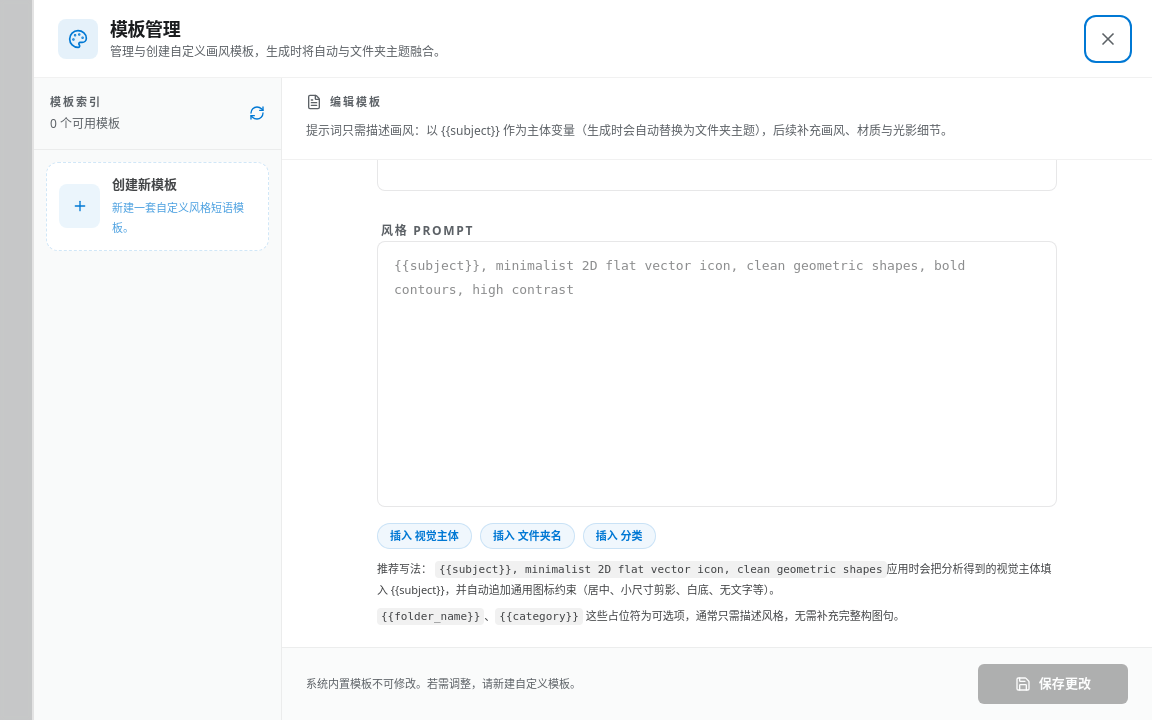
Test: Icon workbench primitives › shows real placeholder variables and allows inserting them in template drawer
This screenshot has width=1152, height=720.
(page scrolled)
Expected: the text "{{subject}}" is shown, [306,122,953,138]
Expected: the text "{{folder_name}}" is shown, [377,608,484,625]
Click the button "插入 视觉主体" at [424, 536], box [377,522,472,549]
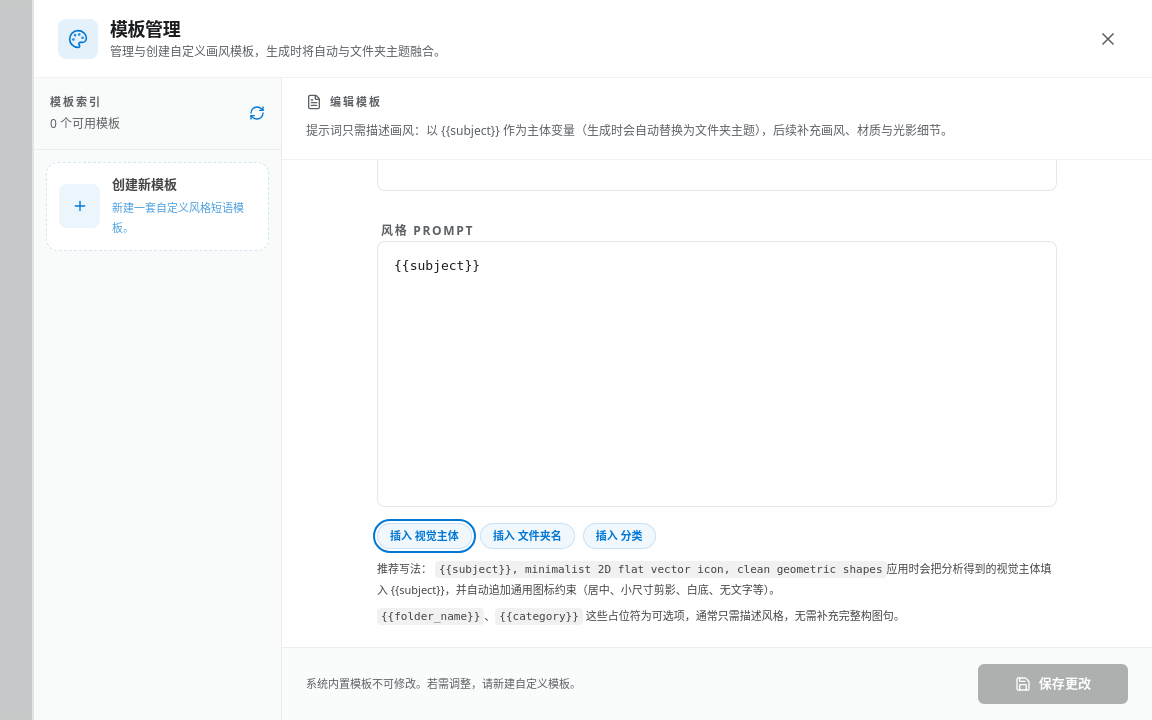
Result: the text box holds "{{subject}}" at [377,240,1057,506]
